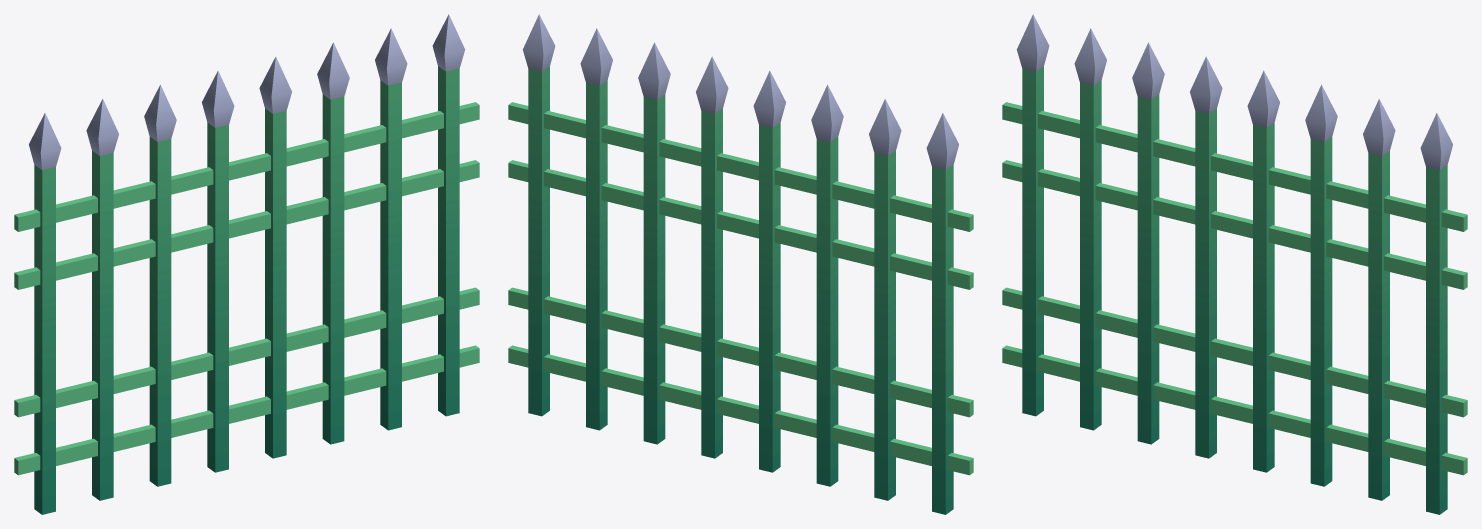
Rendered from iron-fence.glb.
3 views of the same model, side by side, from view 1: azimuth 30°, elevation 25°; view 2: azimuth 150°, elevation 25°; view 3: azimuth 330°, elevation 25° (orthographic).
Visible parts, largest first — view 1: Asset3DLoader.sceneRoot; view 2: Asset3DLoader.sceneRoot; view 3: Asset3DLoader.sceneRoot.
Part boxes in pixels (x1,y1,x2,y2): Asset3DLoader.sceneRoot: (14,14,479,514); Asset3DLoader.sceneRoot: (508,14,973,514); Asset3DLoader.sceneRoot: (1002,14,1467,514).
Bounding box in the file's own units: 1 × 0.8239 × 0.045.
Materials: 1 (1 with a texture image).
